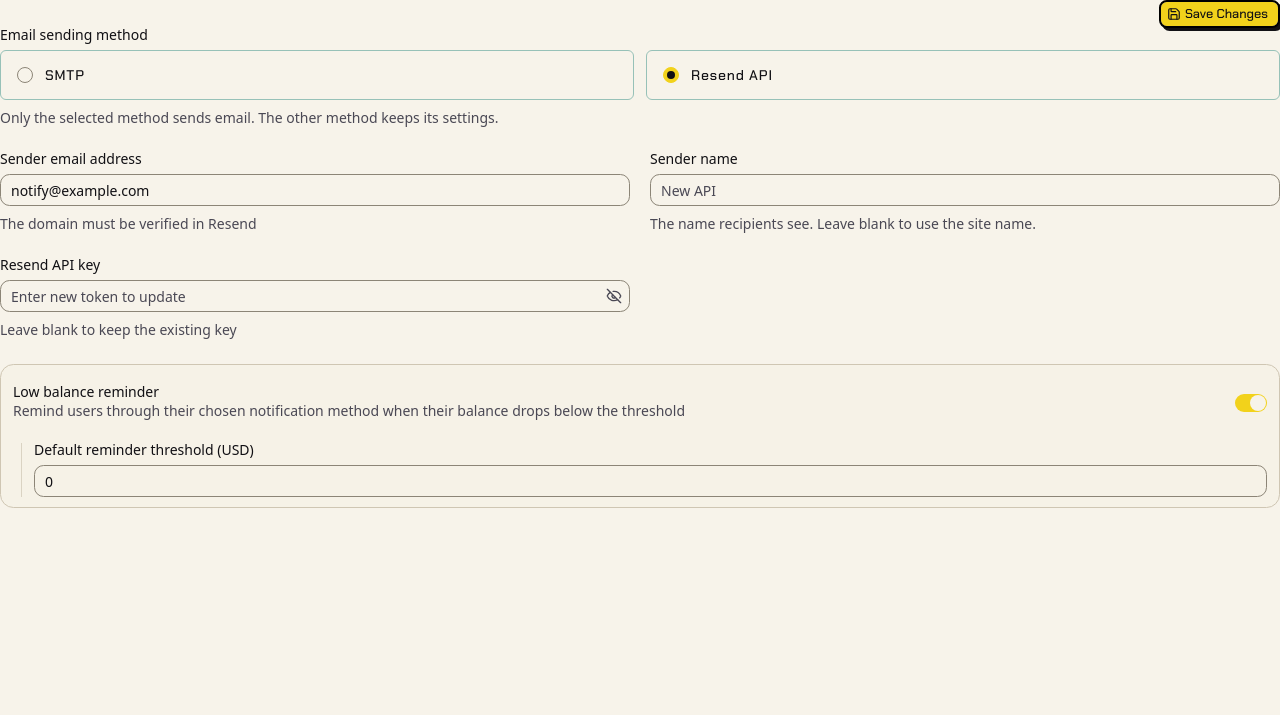
Test: email delivery settings › retains both Resend sender drafts when switching providers
The image size is (1280, 715).
Replace the text in the field labelled "Sender email address" with "notify@another.example" at (315, 190), box [0,174,630,206]
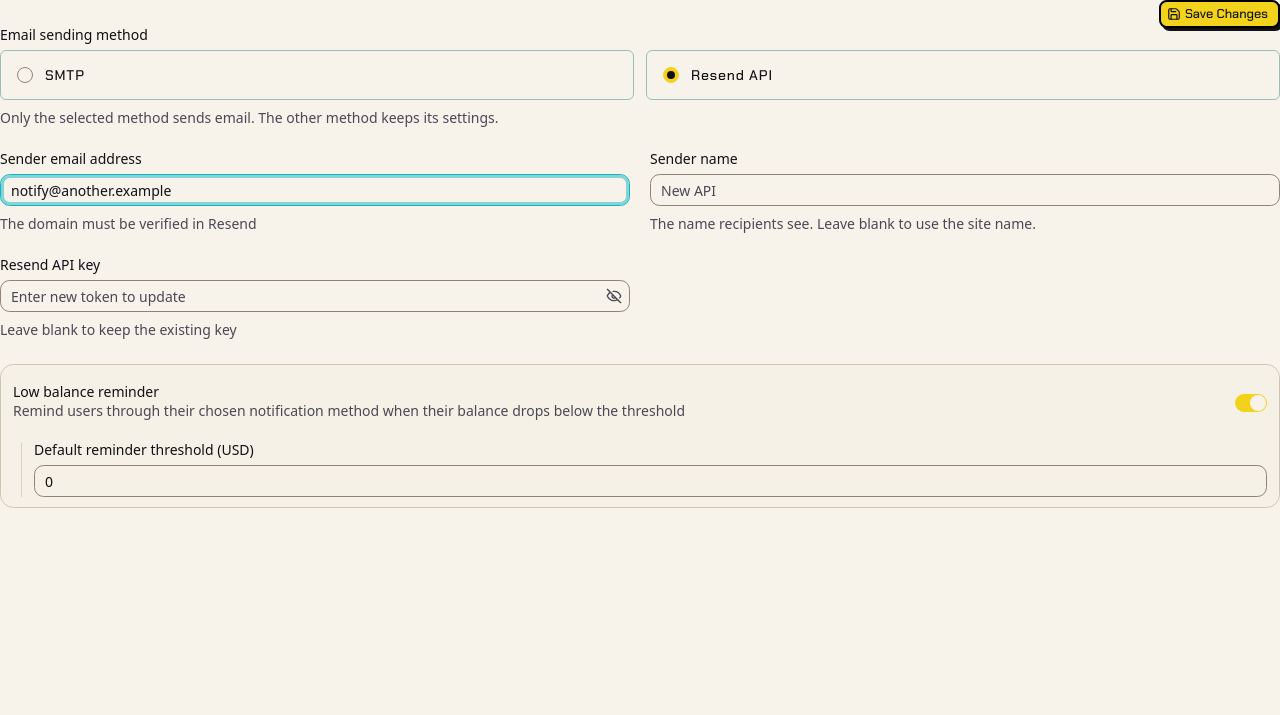
Type "New API 通知" into the field labelled "Sender name" at (965, 190), box [650,174,1279,206]
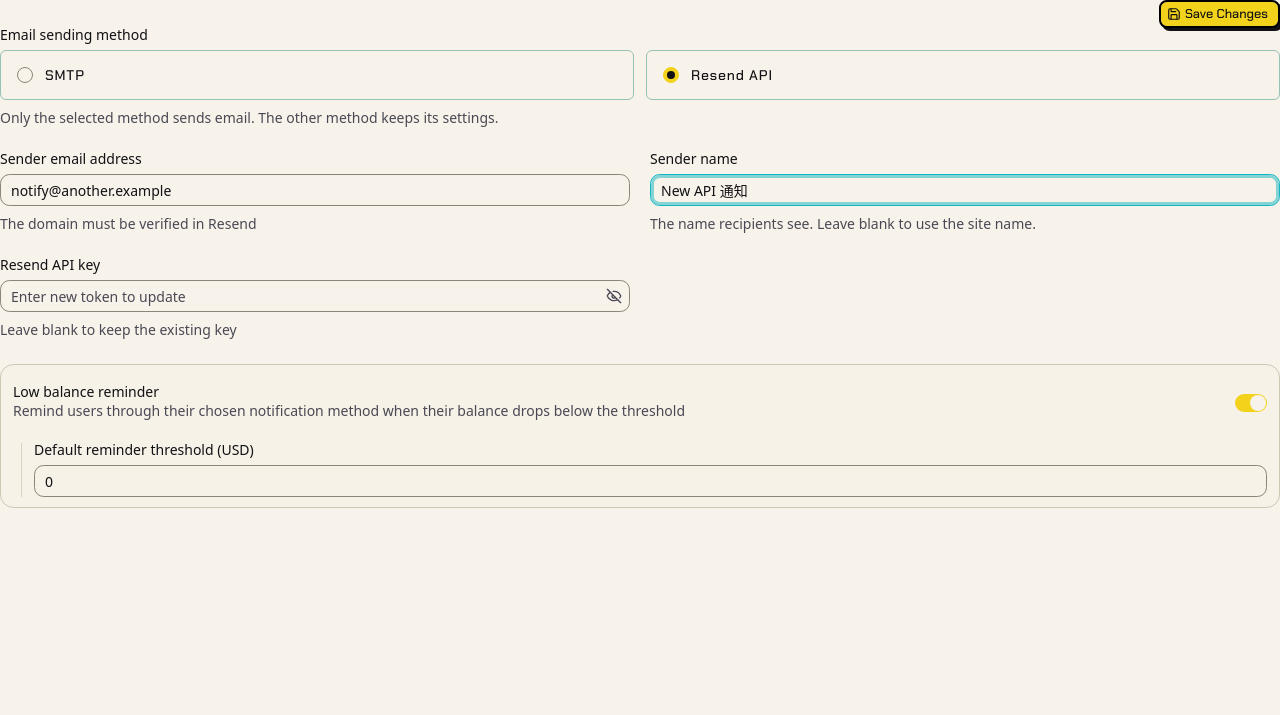
Click the radio button named "SMTP" next to "SMTP" at (25, 75), box [17,67,33,83]
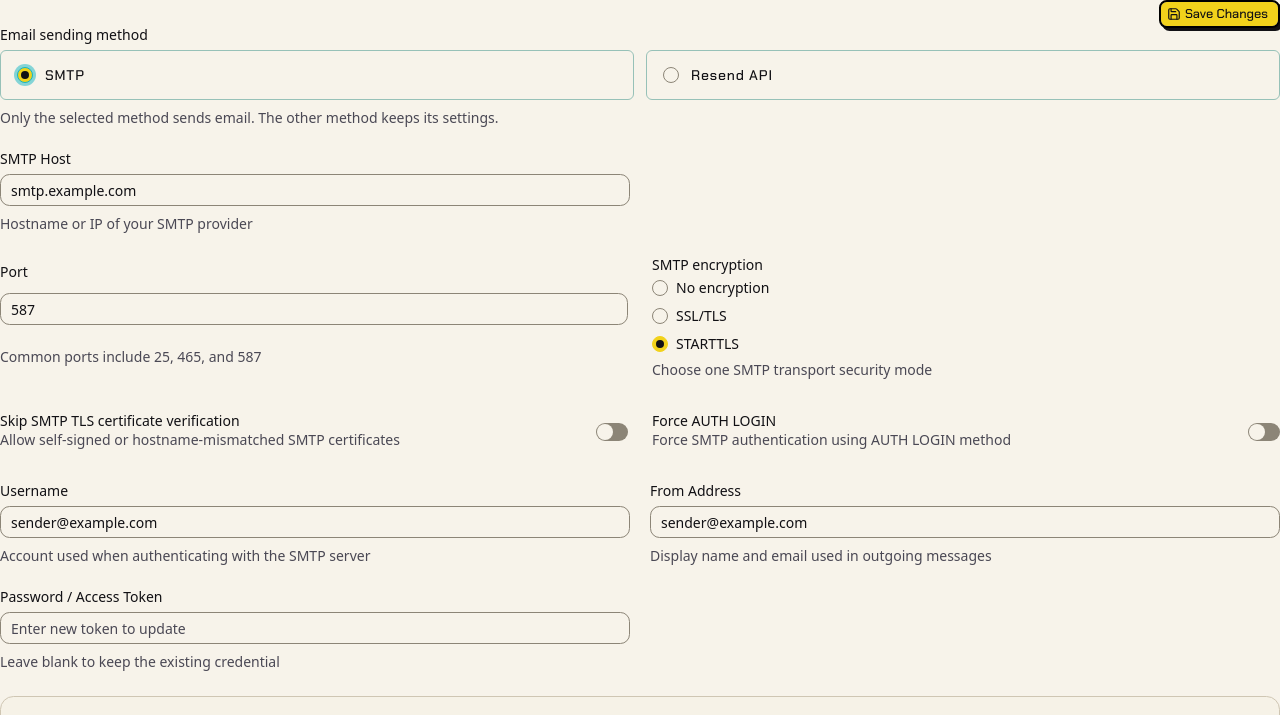
Expected: the label "Sender name" is gone
Click the radio button named "Resend API" next to "Resend API" at (671, 75), box [663,67,679,83]
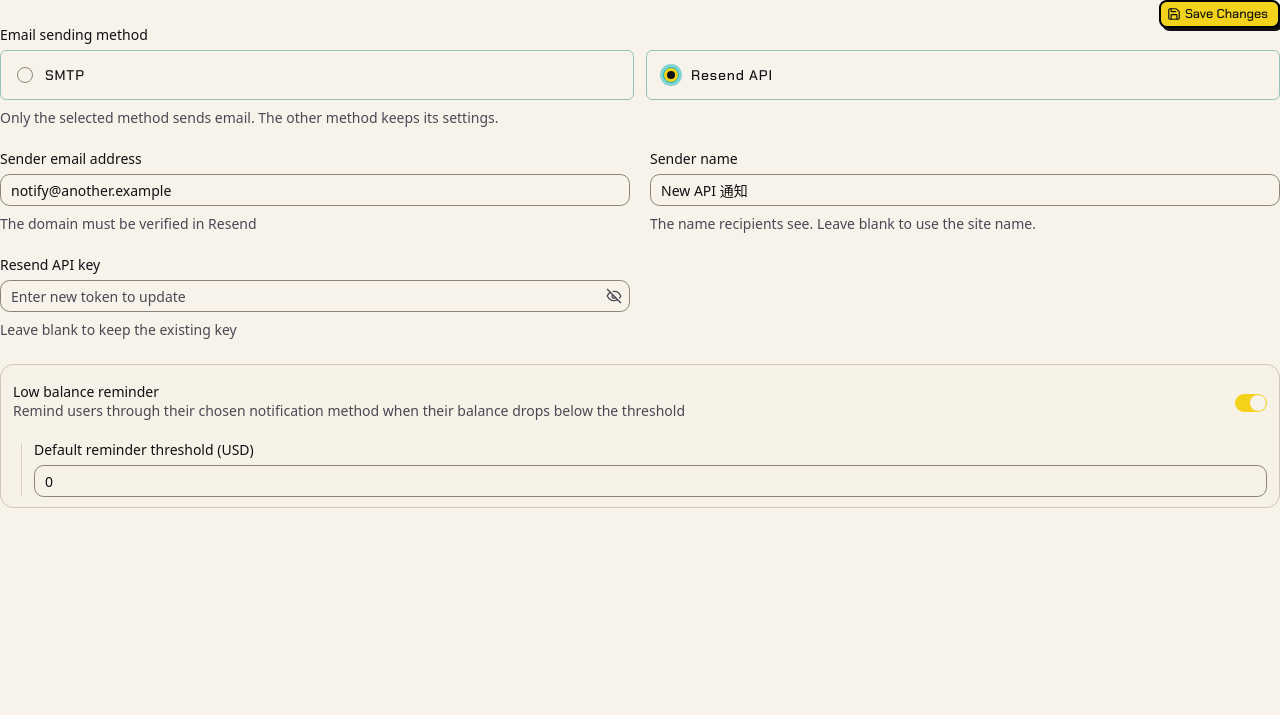
Expected: the field labelled "Sender name" holds "New API 通知", [650,174,1279,206]
